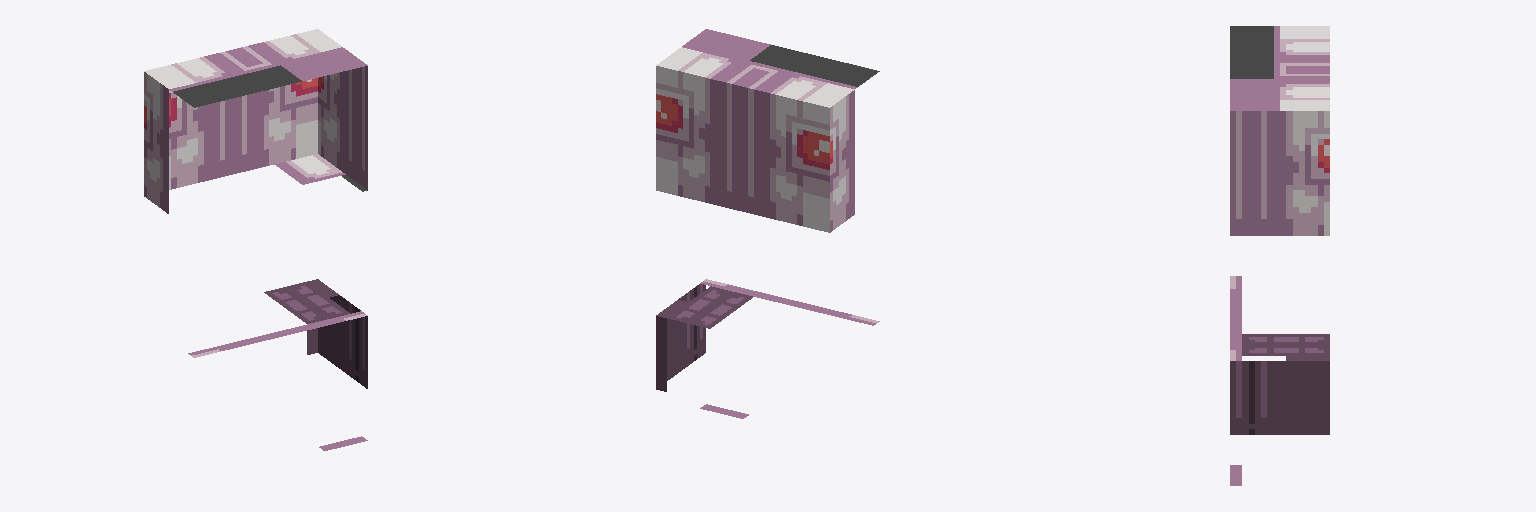
The picture shows the model from 3 angles: view 1: azimuth 30°, elevation 25°; view 2: azimuth 150°, elevation 25°; view 3: azimuth 270°, elevation 25°; orthographic projection.
Parts seen in each view (by area): view 1: cube; view 2: cube; view 3: cube.
Boxes of the visible parts, <box> form: cube: <box>144,29,367,450</box>; cube: <box>656,29,879,418</box>; cube: <box>1230,26,1329,485</box>.
Size of the model in its own units: 1 by 2.06 by 0.5.
Materials: 1 (1 with a texture image).